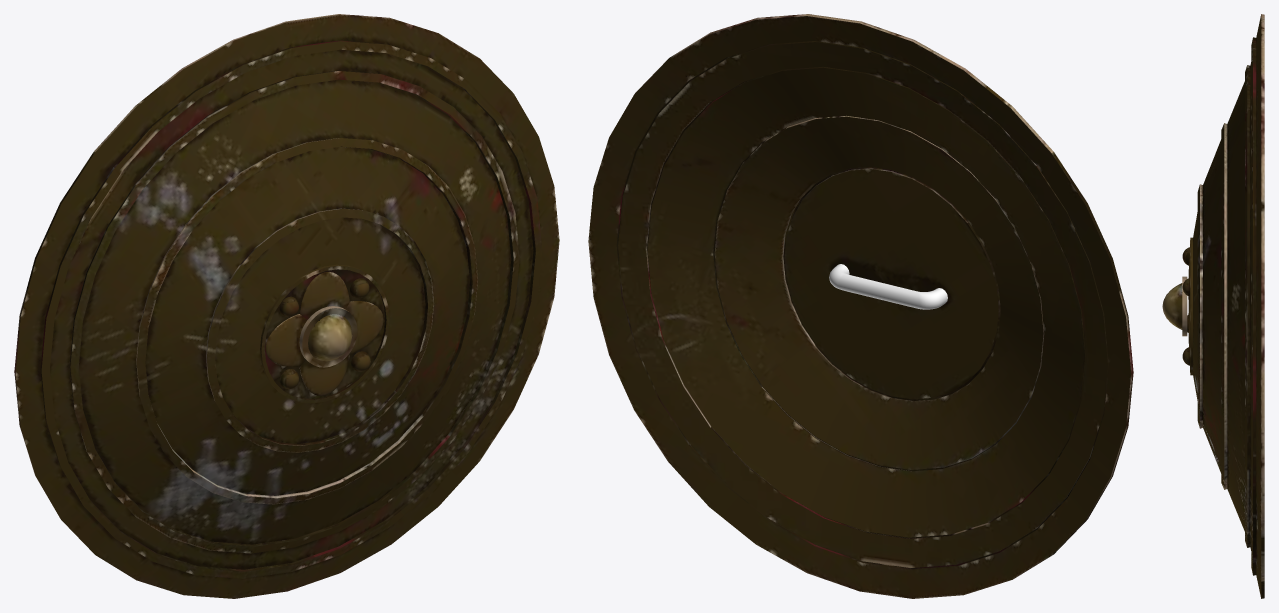
The model's file is shield-transformed.glb.
3 views of the same model, side by side, from view 1: azimuth 30°, elevation 25°; view 2: azimuth 150°, elevation 25°; view 3: azimuth 270°, elevation 25° (orthographic). The views are drawn at different scales.
Visible parts, largest first — view 1: Circle; view 2: Circle; view 3: Circle.
Part boxes in pixels (x1,y1,x2,y2): Circle: (14, 14, 559, 598); Circle: (588, 14, 1133, 598); Circle: (1162, 14, 1264, 598).
Size of the model in its own units: 29.59 by 29.59 by 5.16.
Materials: 6 (5 with a texture image).
